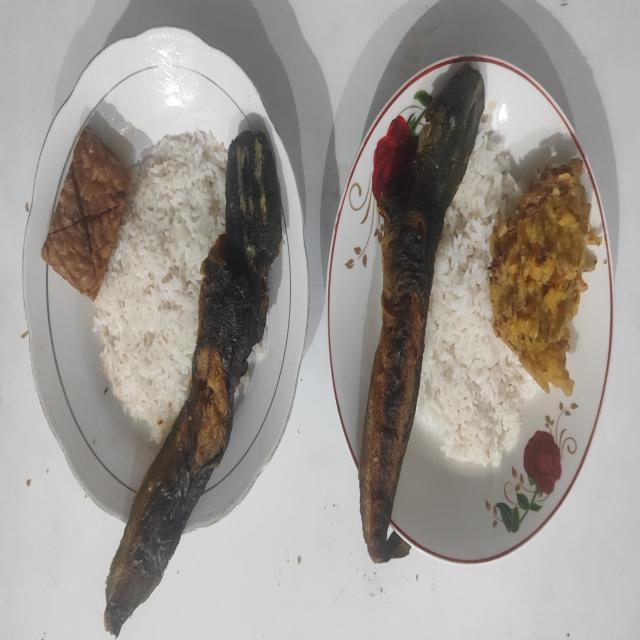nasi_putih: (416, 114, 540, 468), (94, 130, 228, 444)
tempe_goreng: (42, 128, 131, 300)
